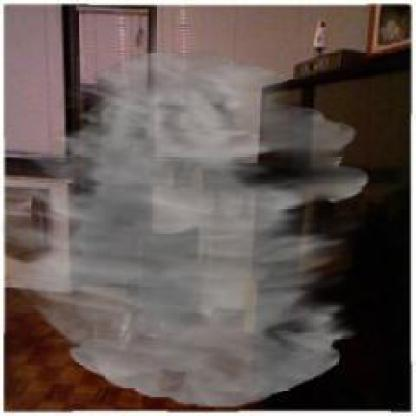Smoke: (2, 51, 369, 408)
